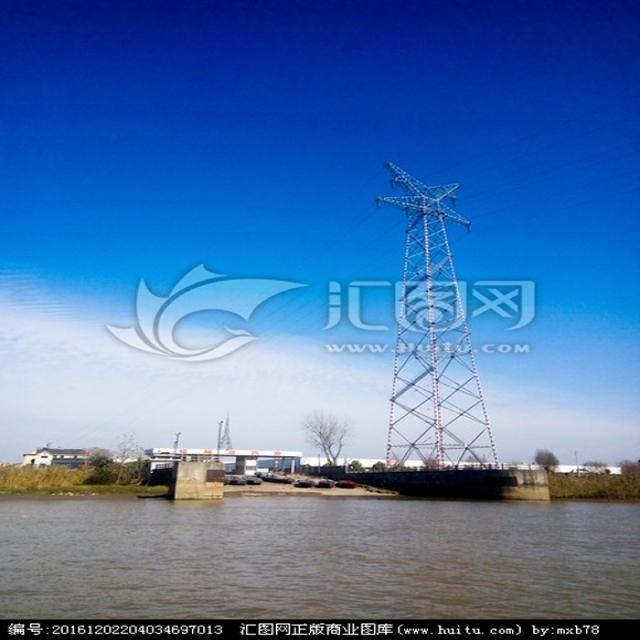non-critical vegetation: (352, 156, 526, 478)
